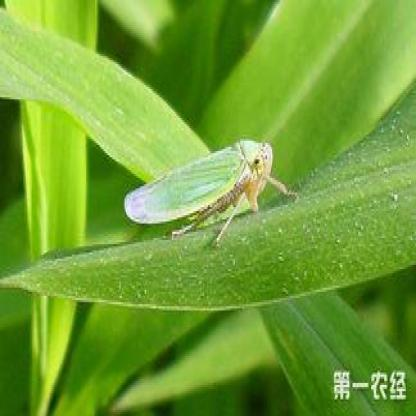Green-Leafhopper: (123, 142, 295, 248)
